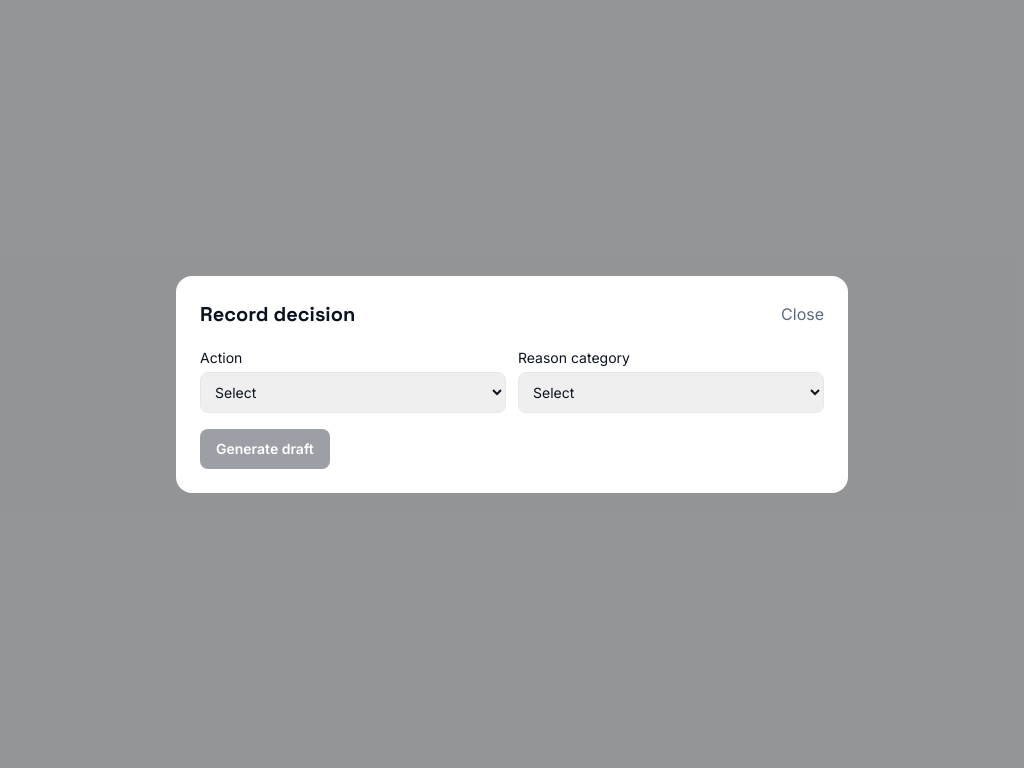
Test case: decision dialog flow › drafts, edits, previews and sends
The width and height of the screenshot is (1024, 768).
Select "approve" in the dropdown labelled "Action" at (353, 392), box [200, 372, 506, 412]
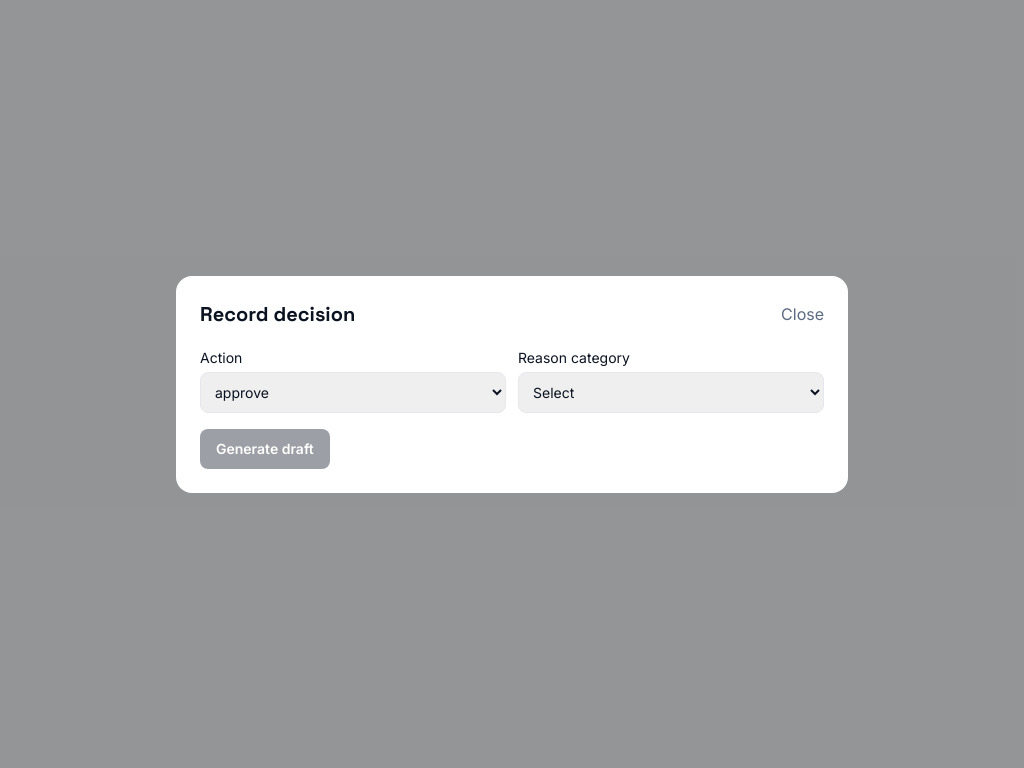
Select "other" in the dropdown labelled "Reason category" at (671, 392), box [518, 372, 824, 412]
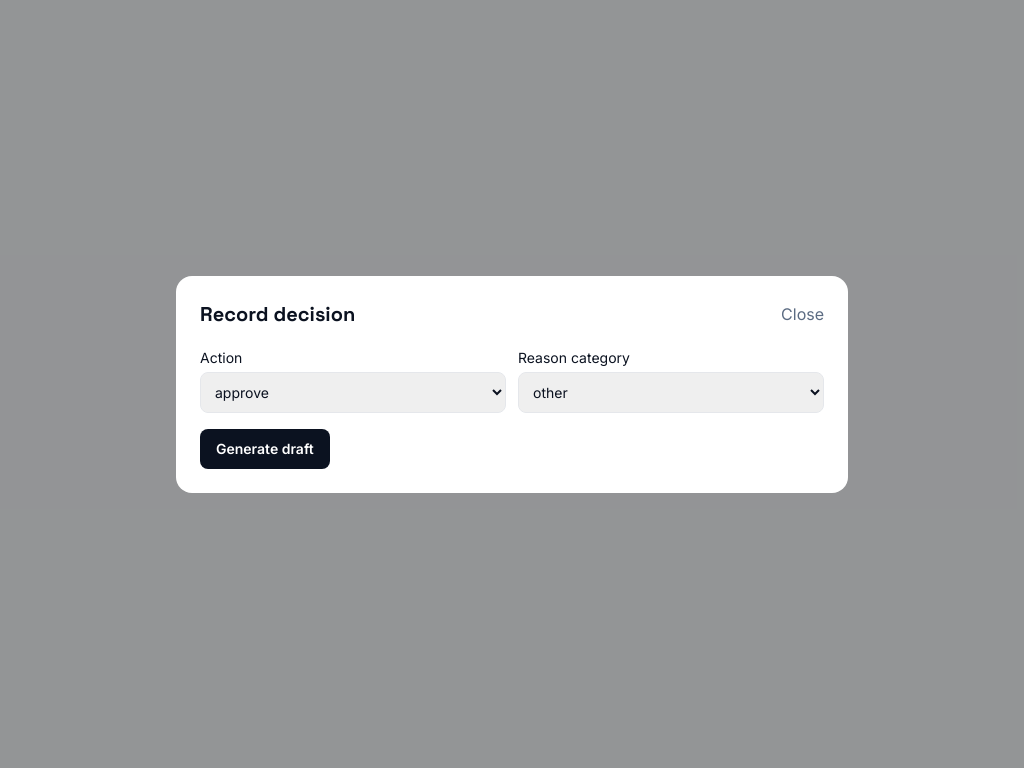
Click the button "Generate draft" at (265, 448), box [200, 428, 330, 468]
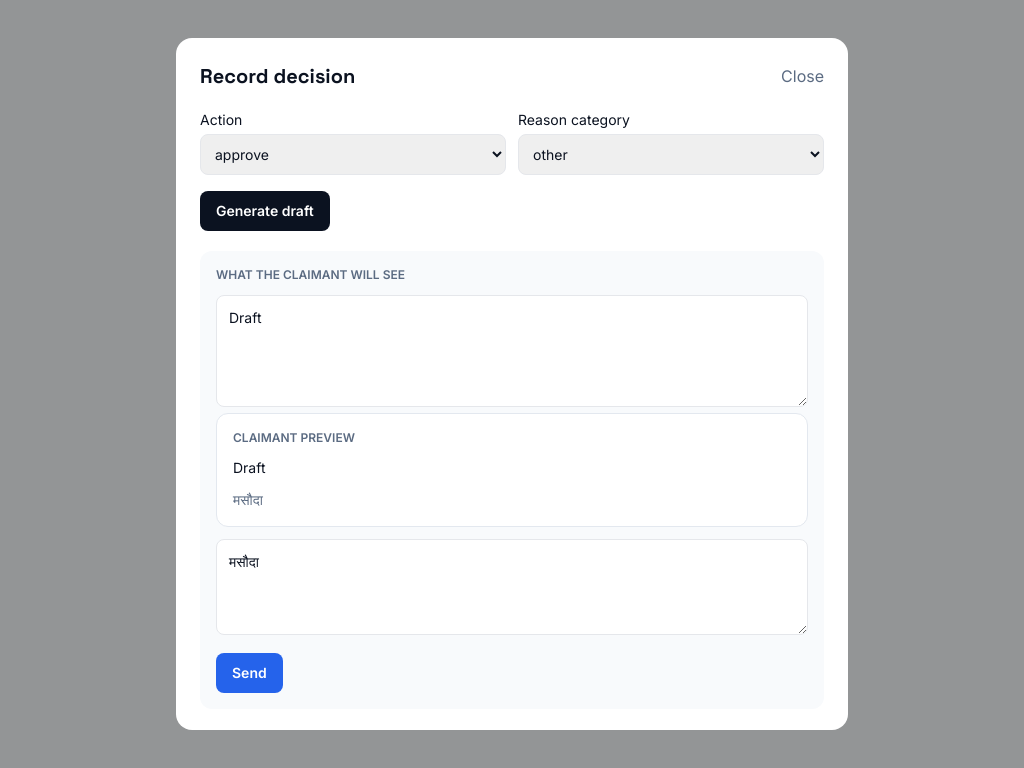
Now the 1st text box showing "Draft" is shown
Replace the text in the 1st text box showing "Draft" with "Edited" at (512, 351), box [216, 295, 808, 407]
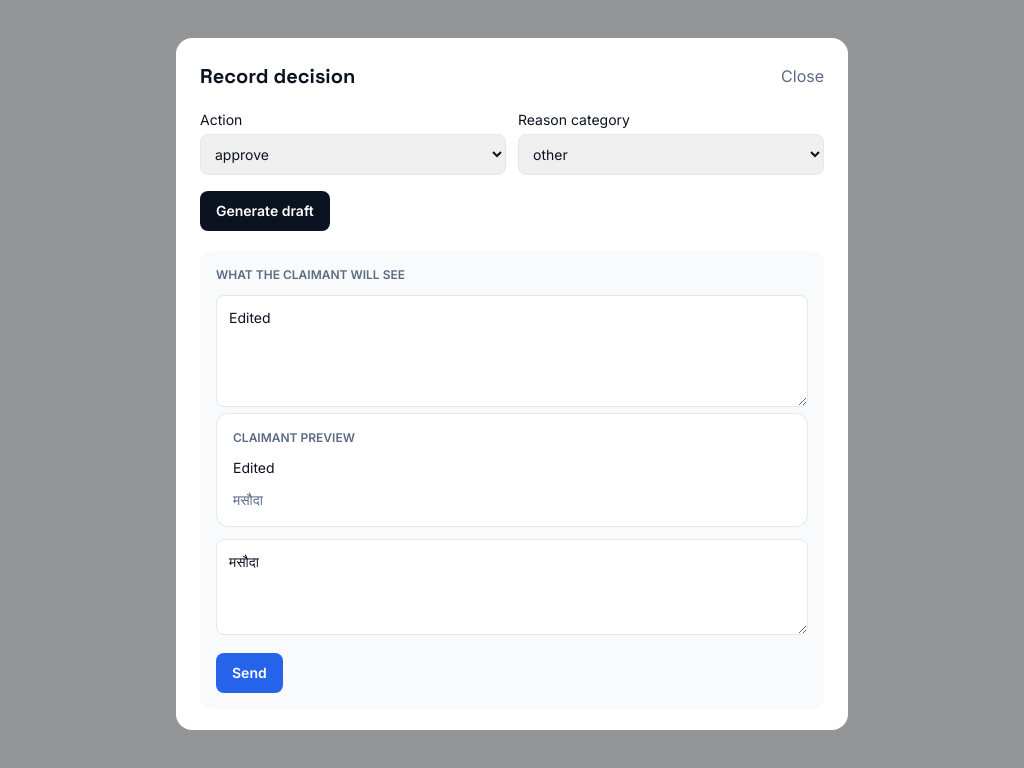
Click the button "Send" at (249, 673), box [216, 653, 283, 693]
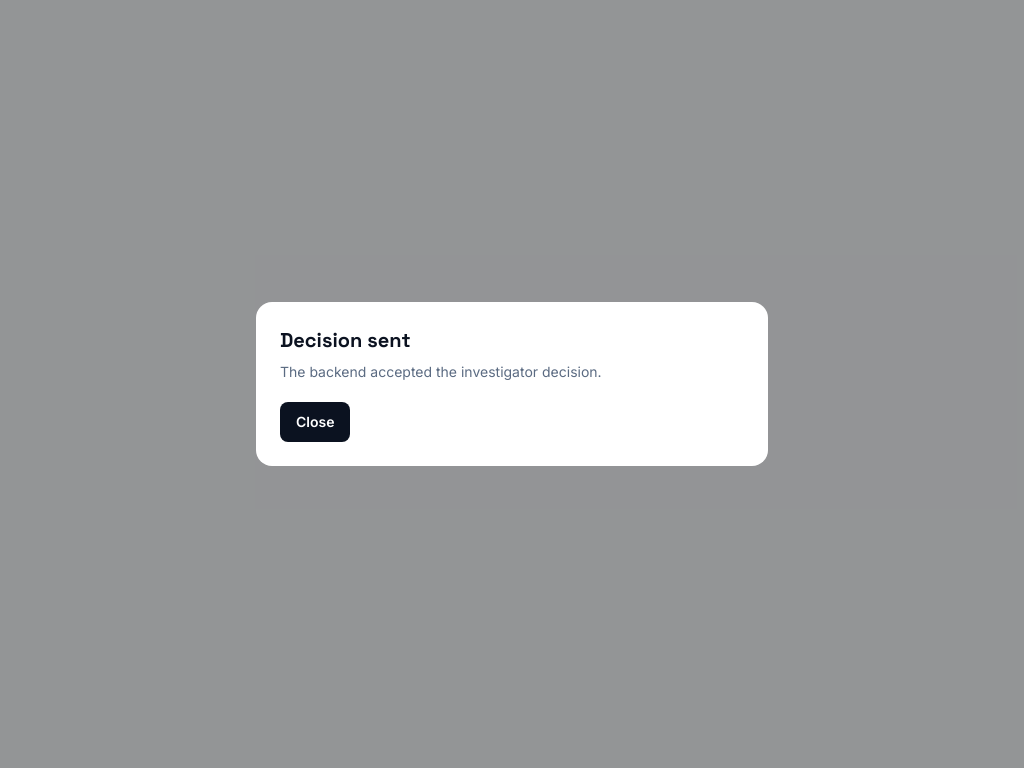
Now the heading "Decision sent" is shown, box [280, 327, 410, 353]
